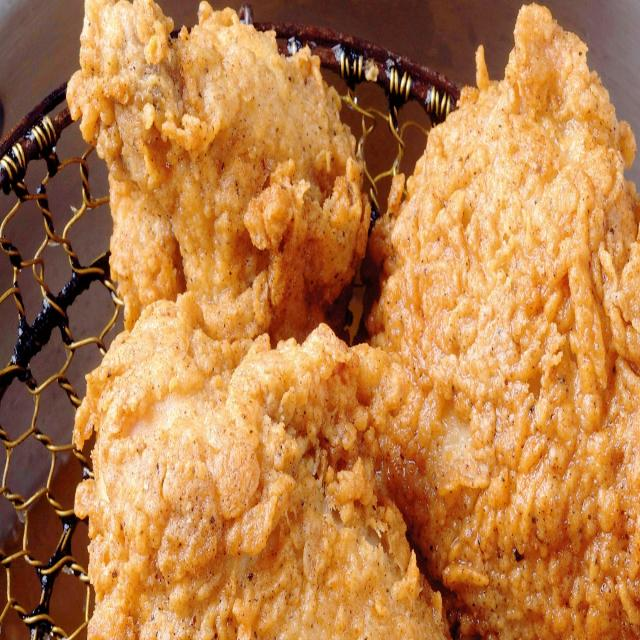fried_chicken: (369, 0, 640, 640), (76, 301, 448, 640), (70, 0, 369, 322)
